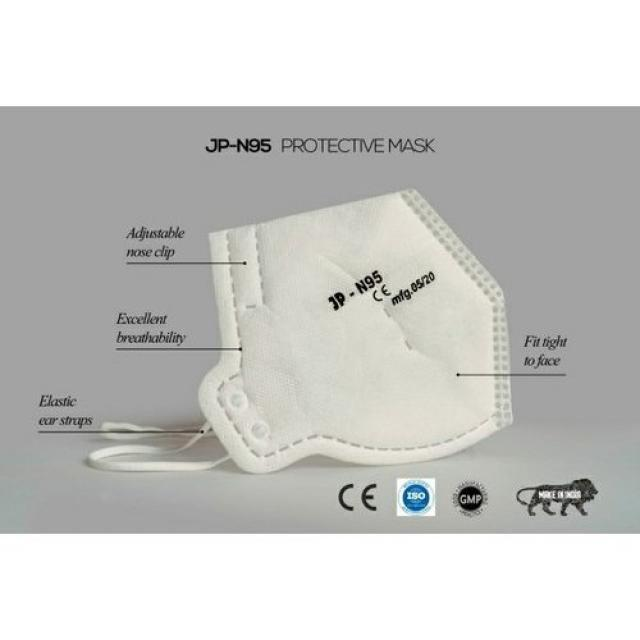face mask: (83, 208, 524, 482)
